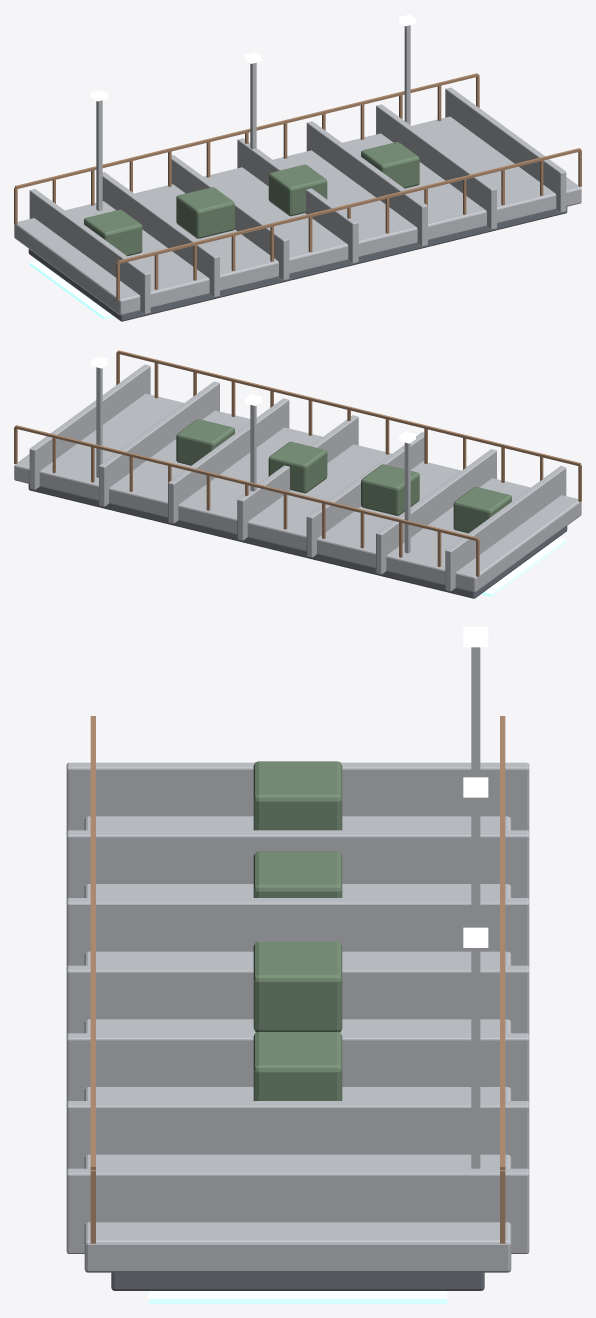
Rendered from bridgew_6.glb.
3 views of the same model, one above another, from view 1: azimuth 30°, elevation 25°; view 2: azimuth 150°, elevation 25°; view 3: azimuth 270°, elevation 25° (orthographic). The views are drawn at different scales.
Visible parts, largest first — view 1: ext_bridge_floor, ext_bridge_ribs, ext_bridge_plants, ext_bridge_rail, ext_bridge_under, ext_bridge_glow, ext_lamp0, ext_lamp2, ext_lamp1; view 2: ext_bridge_floor, ext_bridge_ribs, ext_bridge_plants, ext_bridge_rail, ext_bridge_under, ext_bridge_glow, ext_lamp0, ext_lamp2, ext_lamp1; view 3: ext_bridge_ribs, ext_bridge_floor, ext_bridge_plants, ext_bridge_under, ext_bridge_rail, ext_bridge_glow, ext_lamp2, ext_lamp0, ext_lamp1.
Part boxes in pixels (x1=…): ext_bridge_floor: x1=14, y1=116, x2=581, y2=315; ext_bridge_ribs: x1=29, y1=87, x2=566, y2=314; ext_bridge_plants: x1=84, y1=142, x2=419, y2=256; ext_bridge_rail: x1=14, y1=73, x2=581, y2=299; ext_bridge_under: x1=28, y1=207, x2=567, y2=321; ext_bridge_glow: x1=29, y1=260, x2=114, y2=319; ext_lamp0: x1=96, y1=100, x2=102, y2=210; ext_lamp2: x1=404, y1=25, x2=410, y2=124; ext_lamp1: x1=250, y1=62, x2=256, y2=149; ext_bridge_floor: x1=14, y1=393, x2=581, y2=592; ext_bridge_ribs: x1=29, y1=364, x2=566, y2=591; ext_bridge_plants: x1=176, y1=419, x2=511, y2=533; ext_bridge_rail: x1=14, y1=350, x2=581, y2=576; ext_bridge_under: x1=28, y1=484, x2=567, y2=598; ext_bridge_glow: x1=481, y1=537, x2=566, y2=596; ext_lamp0: x1=404, y1=442, x2=410, y2=553; ext_lamp2: x1=96, y1=367, x2=102, y2=477; ext_lamp1: x1=250, y1=405, x2=256, y2=491; ext_bridge_ribs: x1=66, y1=762, x2=529, y2=1253; ext_bridge_floor: x1=84, y1=816, x2=511, y2=1272; ext_bridge_plants: x1=253, y1=761, x2=342, y2=1100; ext_bridge_under: x1=111, y1=1272, x2=484, y2=1290; ext_bridge_rail: x1=90, y1=716, x2=505, y2=1243; ext_bridge_glow: x1=148, y1=1291, x2=447, y2=1303; ext_lamp2: x1=471, y1=948, x2=480, y2=1168; ext_lamp0: x1=471, y1=647, x2=480, y2=777; ext_lamp1: x1=471, y1=797, x2=480, y2=927.
Size of the model in its own units: 6.03 by 1.83 by 2.6.
